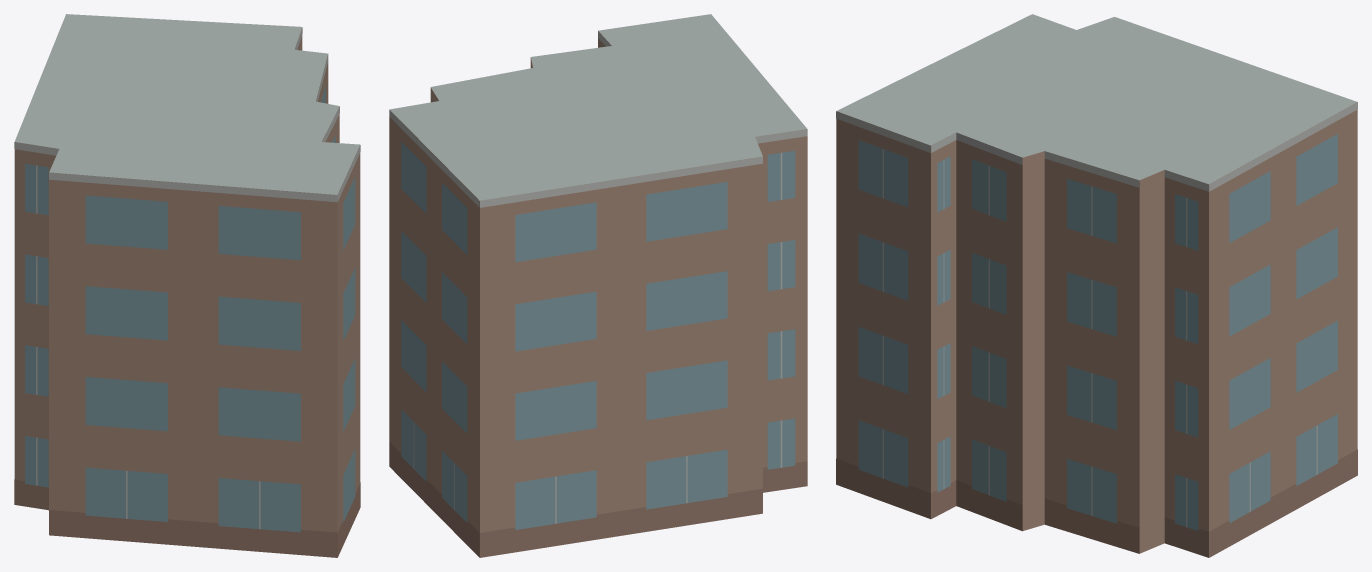
Rendered from survey-upis-32577687.glb.
3 renders of one model, left to right at view 1: azimuth 30°, elevation 25°; view 2: azimuth 150°, elevation 25°; view 3: azimuth 270°, elevation 25°, orthographic. The views are drawn at different scales.
Parts seen in each view (by area): view 1: survey-upis-32577687.tmp; view 2: survey-upis-32577687.tmp; view 3: survey-upis-32577687.tmp.
Boxes of the visible parts, <box> form: survey-upis-32577687.tmp: <box>14,14,360,557</box>; survey-upis-32577687.tmp: <box>389,14,807,557</box>; survey-upis-32577687.tmp: <box>836,14,1357,557</box>.
Bounding box in the file's own units: 11.94 × 12.2 × 15.44.
